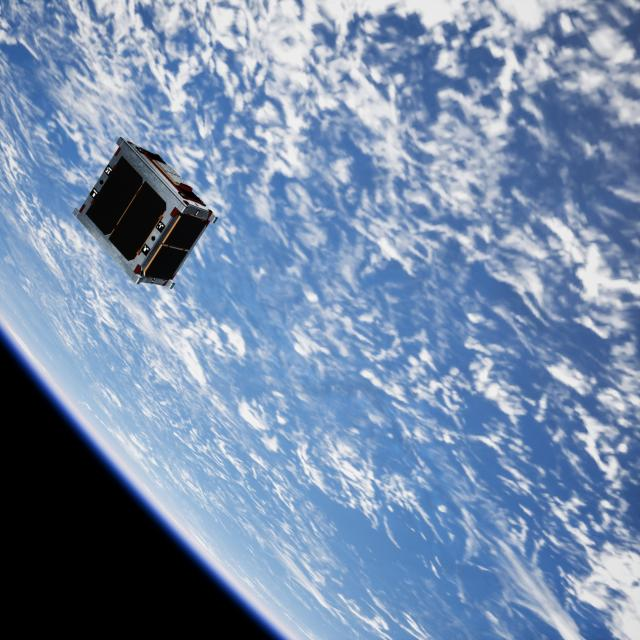satellite: (71, 134, 222, 290)
